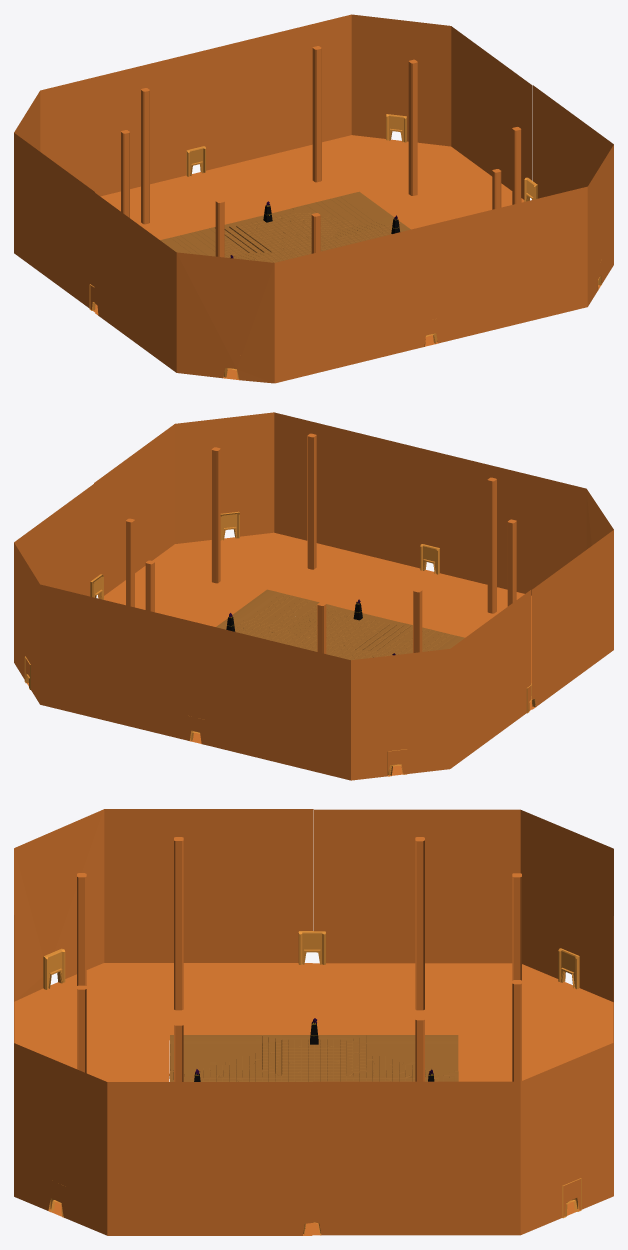
Rendered from EgyptianLevelBase_v2.FBX.
3 renders of one model, top to bottom at view 1: azimuth 30°, elevation 25°; view 2: azimuth 150°, elevation 25°; view 3: azimuth 270°, elevation 25°, orthographic. The views are drawn at different scales.
Visible parts, largest first — view 1: Plane017, Plane021, Object011, doorway008; view 2: Plane017, Plane021, Object011, doorway008; view 3: Plane017, Plane021, Object011, doorway008.
Boxes of the visible parts, left/top/right/bottom form: Plane017: left=14, top=14, right=613, bottom=383; Plane021: left=160, top=191, right=410, bottom=262; Object011: left=121, top=46, right=521, bottom=257; doorway008: left=89, top=114, right=601, bottom=379; Plane017: left=14, top=412, right=613, bottom=780; Plane021: left=216, top=589, right=464, bottom=660; Object011: left=126, top=433, right=516, bottom=653; doorway008: left=24, top=511, right=535, bottom=776; Plane017: left=14, top=809, right=613, bottom=1235; Plane021: left=169, top=1035, right=458, bottom=1081; Object011: left=77, top=837, right=521, bottom=1081; doorway008: left=43, top=931, right=581, bottom=1235.
Bounding box in the file's own units: 12261 × 3845 × 11388.
